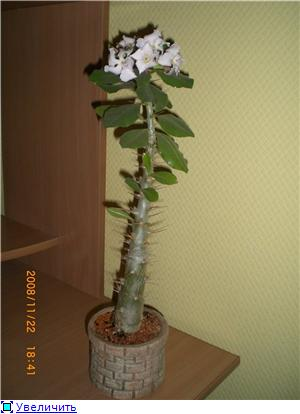Pachypodium meridionale: (93, 24, 211, 343)
